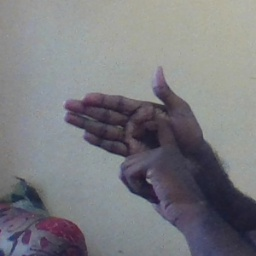R: (59, 59, 193, 202)
